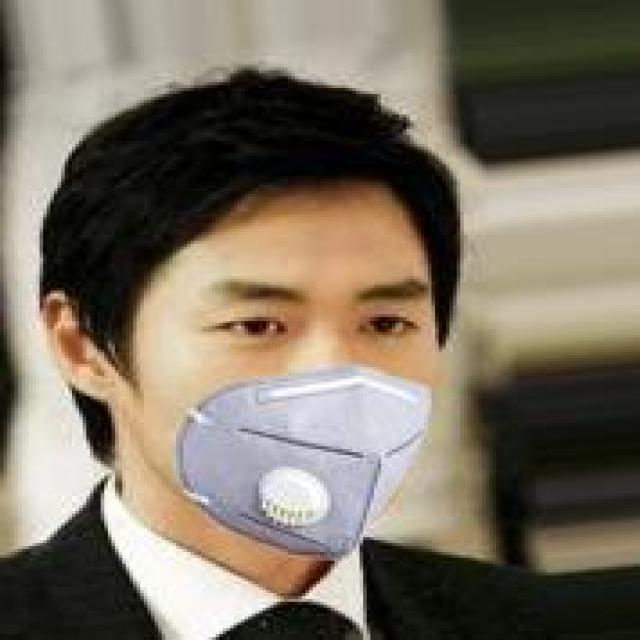mask: (43, 59, 428, 599)
